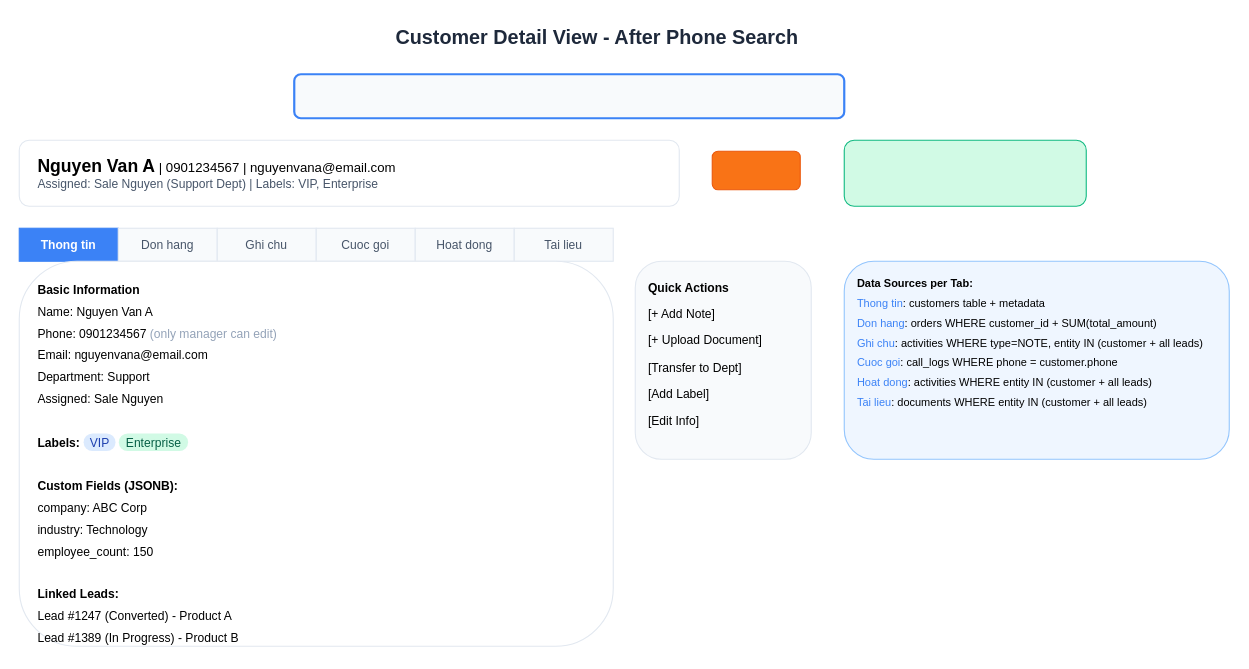
Image size: 1249x669. Some labels were removed from this diagram. Each missing label, with the centre of its shape:
"150,000,000 VND Total Purchase Value (3 orders)" belongs at point 964,172.
"Claim" belongs at point 755,170.
"Search Customer: [0901234567] [Search]" belongs at point 569,96.
